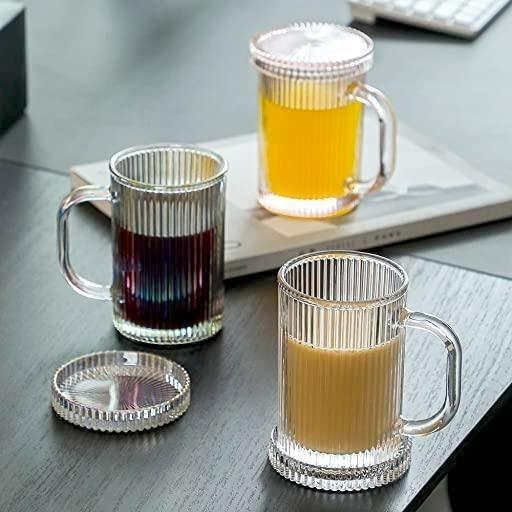glass-mug: (261, 246, 467, 503), (48, 138, 231, 349), (248, 18, 405, 225)
